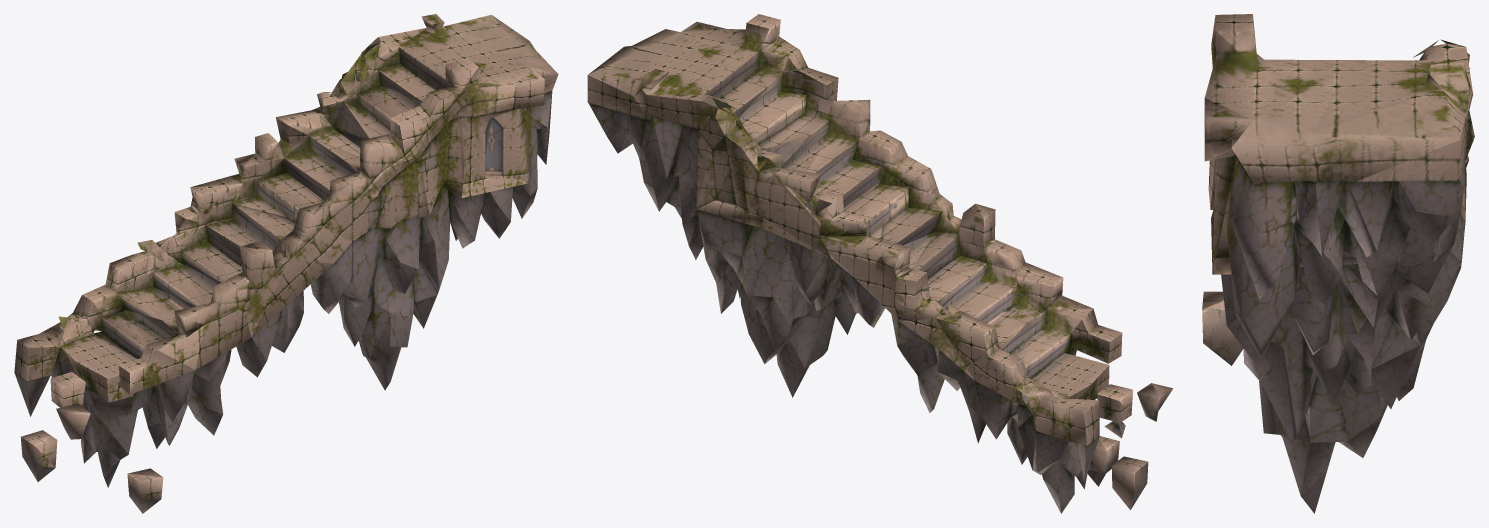
The model's file is SM_FloatingRuinStairway.fbx.
The picture shows the model from 3 angles, left to right: view 1: azimuth 30°, elevation 25°; view 2: azimuth 150°, elevation 25°; view 3: azimuth 270°, elevation 25°; orthographic projection. The views are drawn at different scales.
Visible parts, largest first — view 1: Mesh_0; view 2: Mesh_0; view 3: Mesh_0.
Part boxes in pixels (left/top/right/bottom): Mesh_0: left=14, top=14, right=558, bottom=513; Mesh_0: left=587, top=14, right=1172, bottom=513; Mesh_0: left=1202, top=14, right=1474, bottom=513.
Bounding box in the file's own units: 184 × 130 × 54.06.
Materials: 1 (1 with a texture image).
